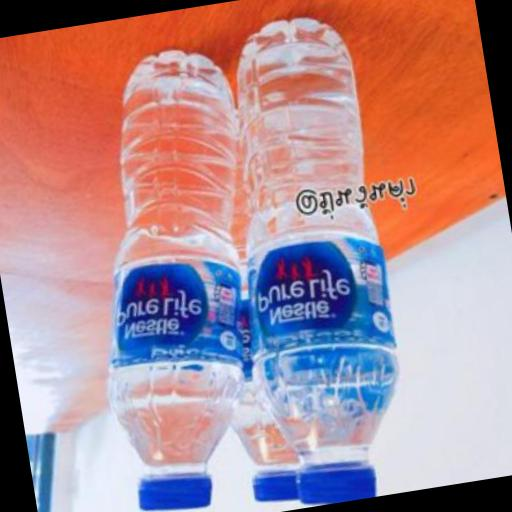Coca: (57, 45, 296, 512), (208, 8, 418, 508)
